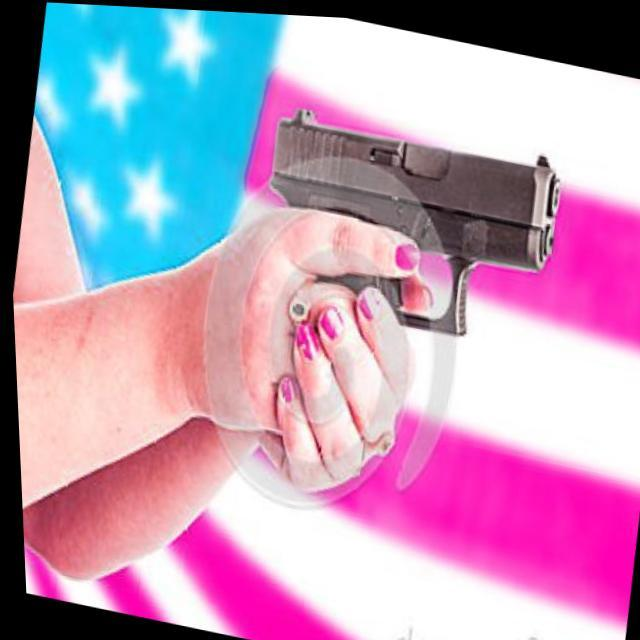weapon: (203, 84, 592, 486)
